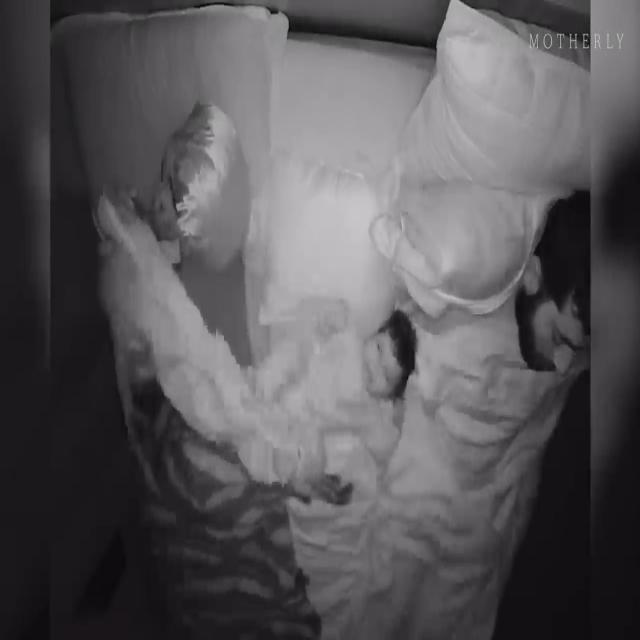baby: (252, 294, 415, 479)
